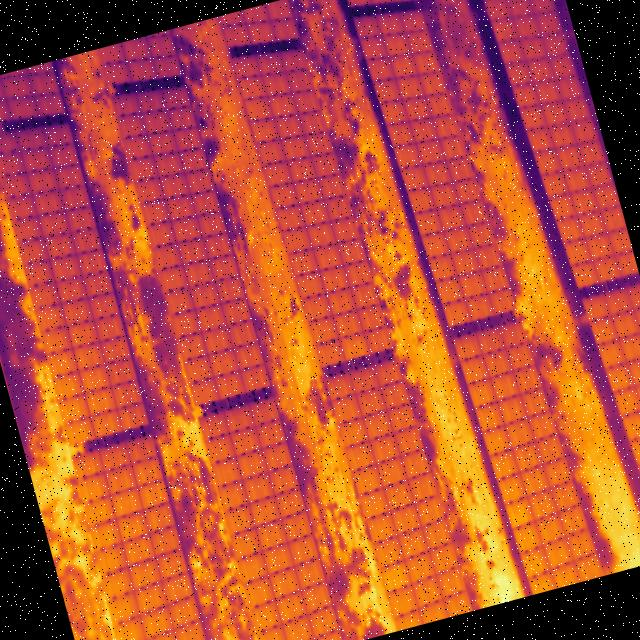Hotspot: (382, 562, 408, 590), (507, 500, 532, 526), (342, 334, 367, 358)
